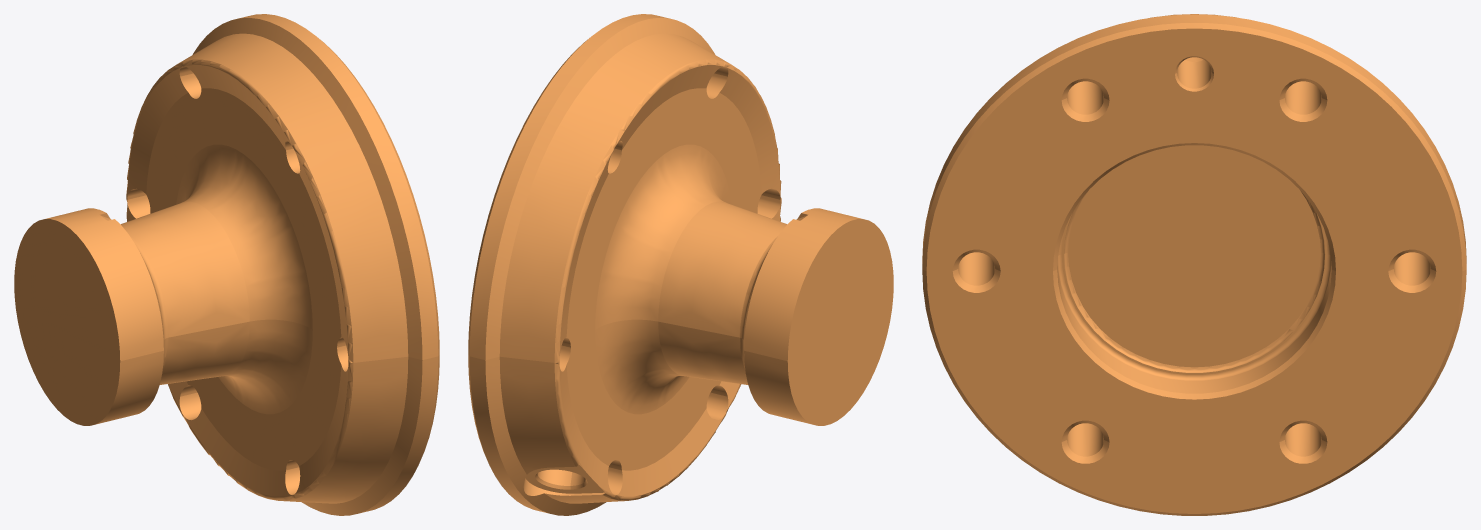
3 renders of one model, left to right at view 1: azimuth 30°, elevation 25°; view 2: azimuth 150°, elevation 25°; view 3: azimuth 270°, elevation 25°, orthographic. The views are drawn at different scales.
Visible parts, largest first — view 1: mesh_0; view 2: mesh_0; view 3: mesh_0.
Part boxes in pixels (box(x1,y1,x2,y2)): mesh_0: box(14, 14, 439, 515); mesh_0: box(468, 14, 893, 515); mesh_0: box(922, 14, 1466, 515).
Size of the model in its own units: 0.07 by 0.1249 by 0.125.
